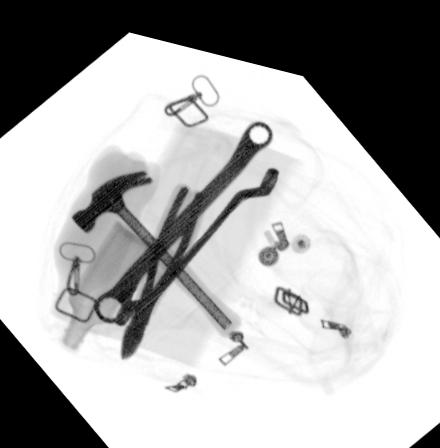Hammer: (70, 158, 244, 329)
Pliers: (111, 171, 212, 358)
Wrench: (88, 107, 274, 321), (108, 148, 282, 321)
